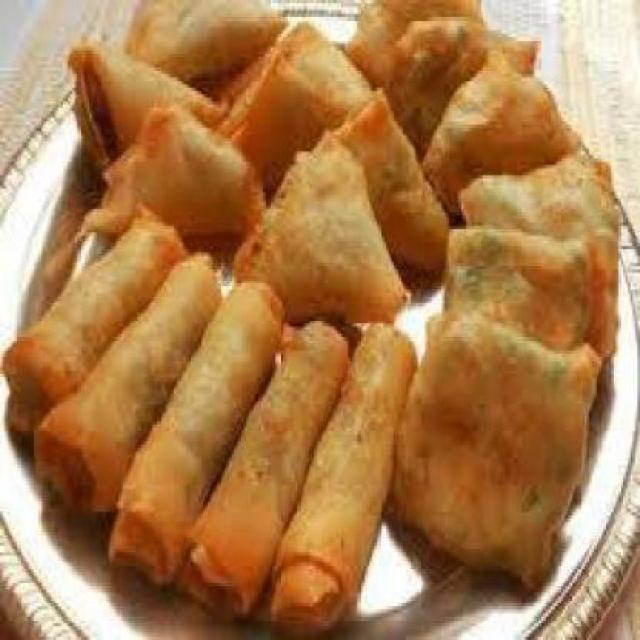spring rolls: (9, 202, 398, 623)
